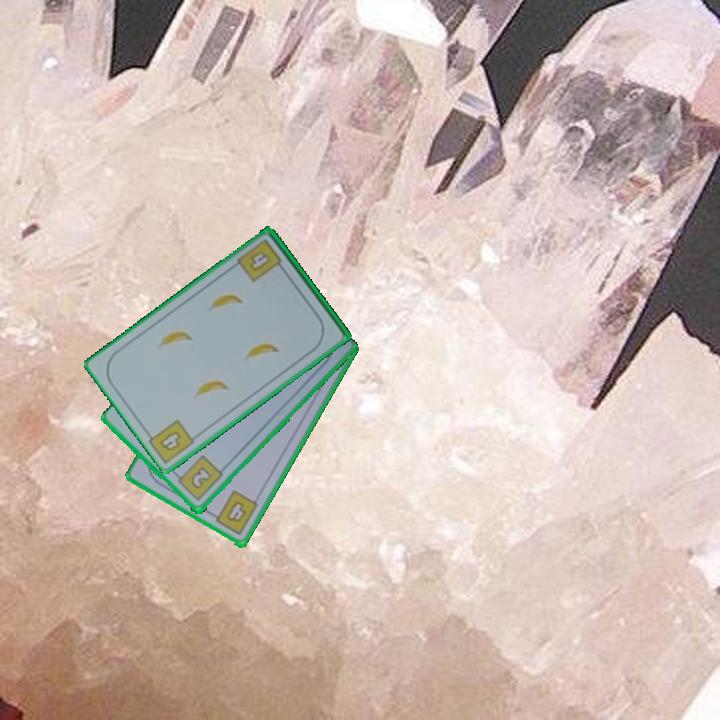2b: (171, 452, 226, 504)
4b: (207, 487, 261, 539), (234, 236, 288, 285), (156, 428, 184, 455)
